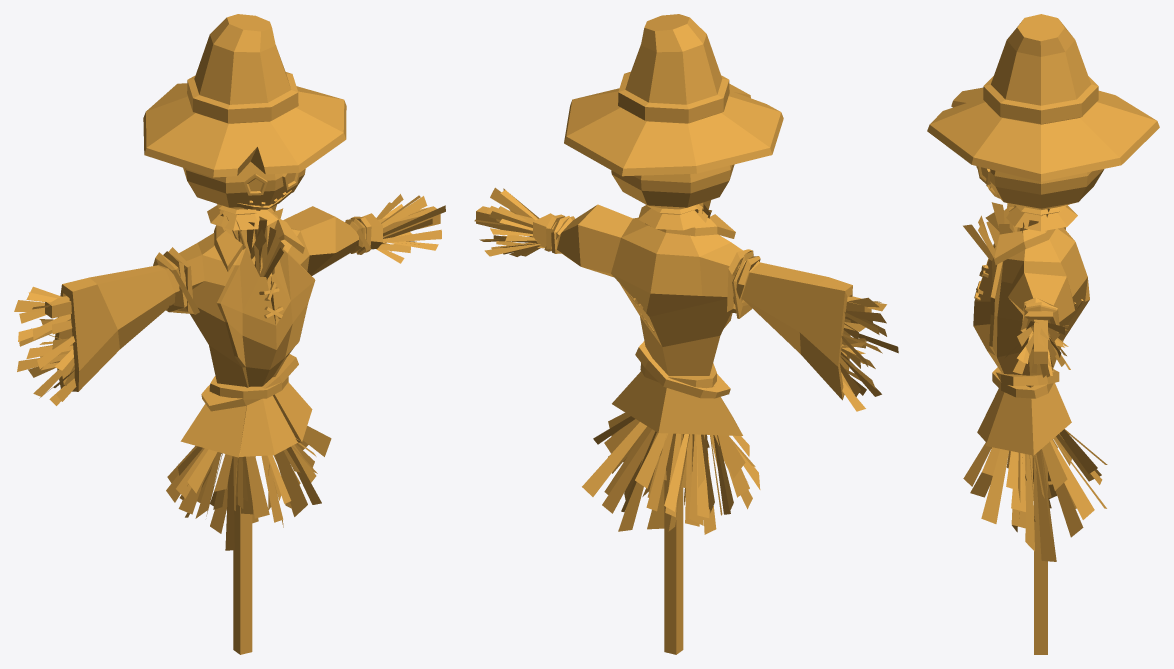
The model's file is scarecrow-a.fbx.
3 renders of one model, left to right at view 1: azimuth 30°, elevation 25°; view 2: azimuth 150°, elevation 25°; view 3: azimuth 270°, elevation 25°, orthographic.
Parts seen in each view (by area): view 1: scarecrow-a; view 2: scarecrow-a; view 3: scarecrow-a.
Part boxes in pixels (left/top/right/bottom): scarecrow-a: left=14, top=14, right=445, bottom=654; scarecrow-a: left=474, top=14, right=898, bottom=654; scarecrow-a: left=927, top=14, right=1159, bottom=654.
Bounding box in the file's own units: 1.38 × 2 × 0.6687.
